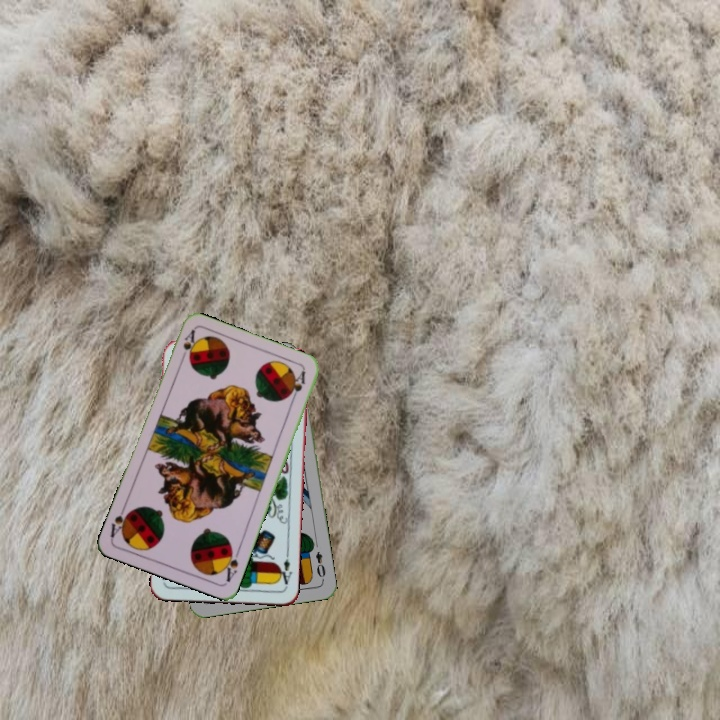EA: (274, 549, 295, 590)
EO: (312, 547, 328, 583)
SA: (219, 543, 242, 585), (178, 326, 197, 366)
